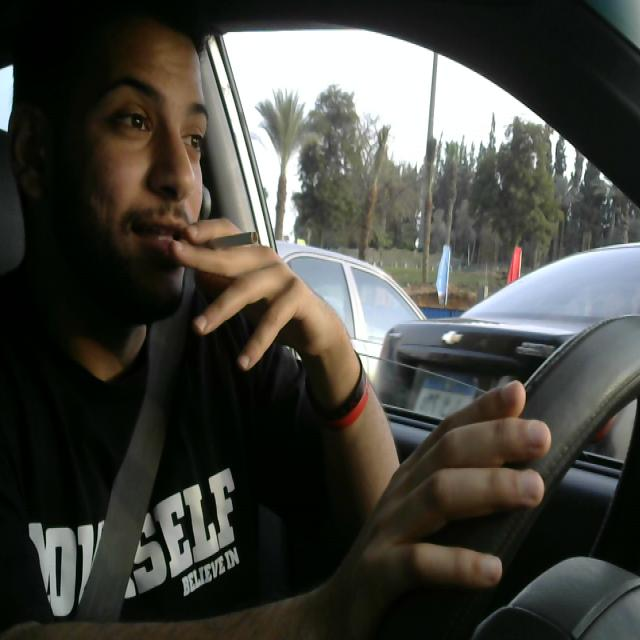smoking: (157, 223, 266, 266)
